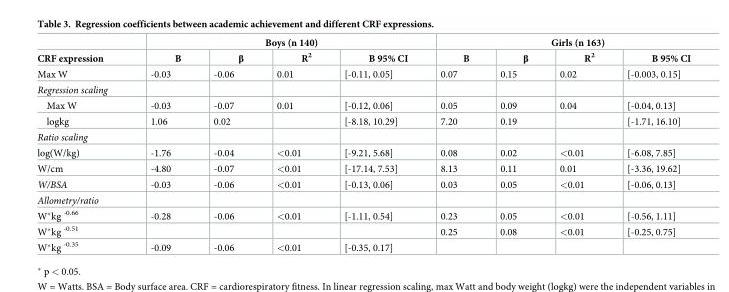table: (36, 37, 690, 253)
table column: (327, 37, 423, 253), (36, 37, 128, 253), (610, 37, 690, 253), (128, 37, 196, 253), (259, 37, 327, 253), (543, 37, 610, 253), (196, 37, 259, 253), (423, 37, 484, 253), (484, 37, 543, 253)
table column header: (36, 37, 690, 66)
table projected row header: (36, 80, 690, 98), (36, 128, 690, 145), (36, 191, 690, 207)
table row: (36, 80, 690, 98), (36, 49, 690, 66), (36, 128, 690, 145), (36, 175, 690, 191), (36, 191, 690, 207), (36, 207, 690, 223), (36, 98, 690, 113), (36, 113, 690, 128), (36, 145, 690, 160), (36, 160, 690, 175), (36, 223, 690, 238), (36, 238, 690, 253), (36, 66, 690, 80), (36, 37, 690, 49)
table spanning cell: (128, 37, 423, 49), (423, 37, 690, 49), (36, 37, 128, 66)
